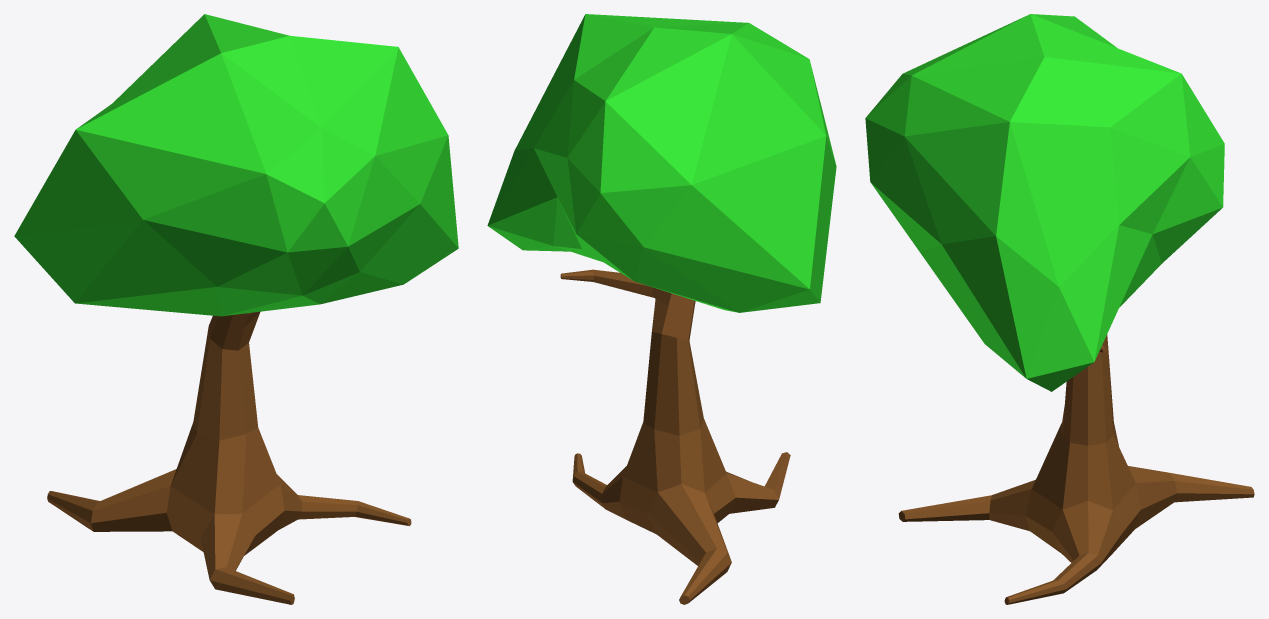
Rendered from tree01.fbx.
The picture shows the model from 3 angles, left to right: view 1: azimuth 30°, elevation 25°; view 2: azimuth 150°, elevation 25°; view 3: azimuth 270°, elevation 25°; orthographic projection. The views are drawn at different scales.
Parts seen in each view (by area): view 1: Tree01; view 2: Tree01; view 3: Tree01.
Boxes of the visible parts, x1=… form: Tree01: x1=14, y1=14, x2=458, y2=604; Tree01: x1=487, y1=14, x2=836, y2=604; Tree01: x1=865, y1=14, x2=1254, y2=604.
Bounding box in the file's own units: 550 × 712 × 488.
